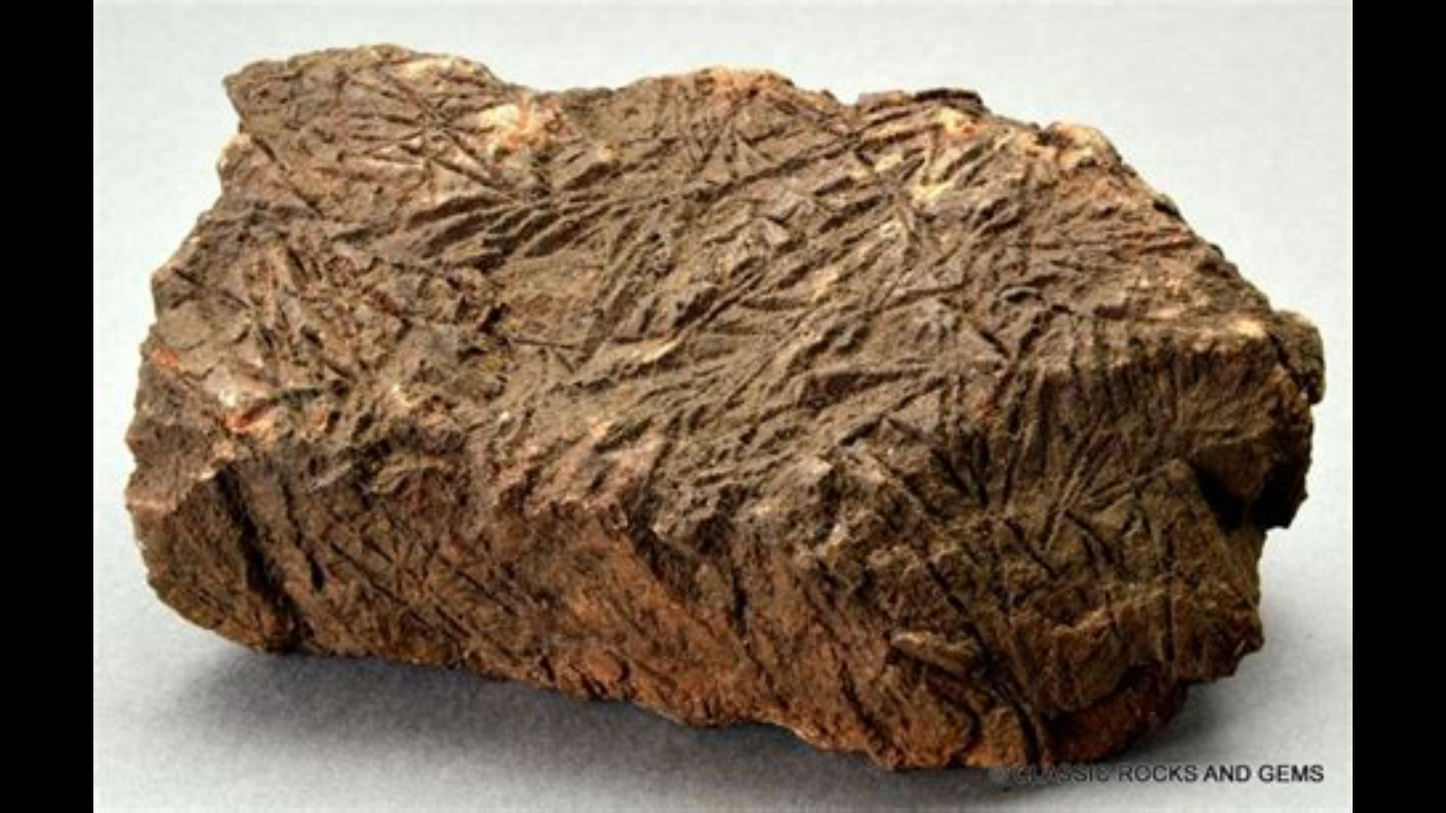rock: (128, 48, 1319, 765)
